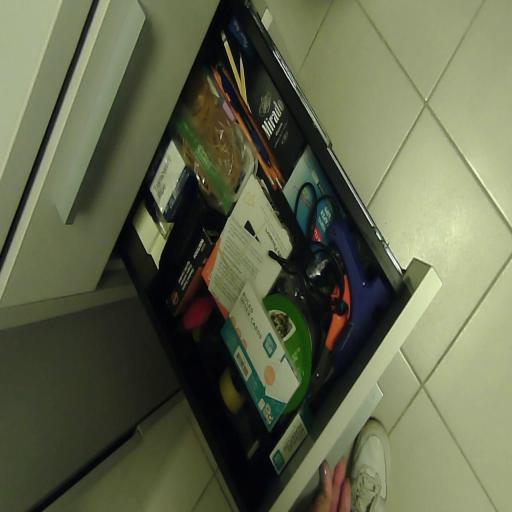pen: (217, 68, 276, 171)
